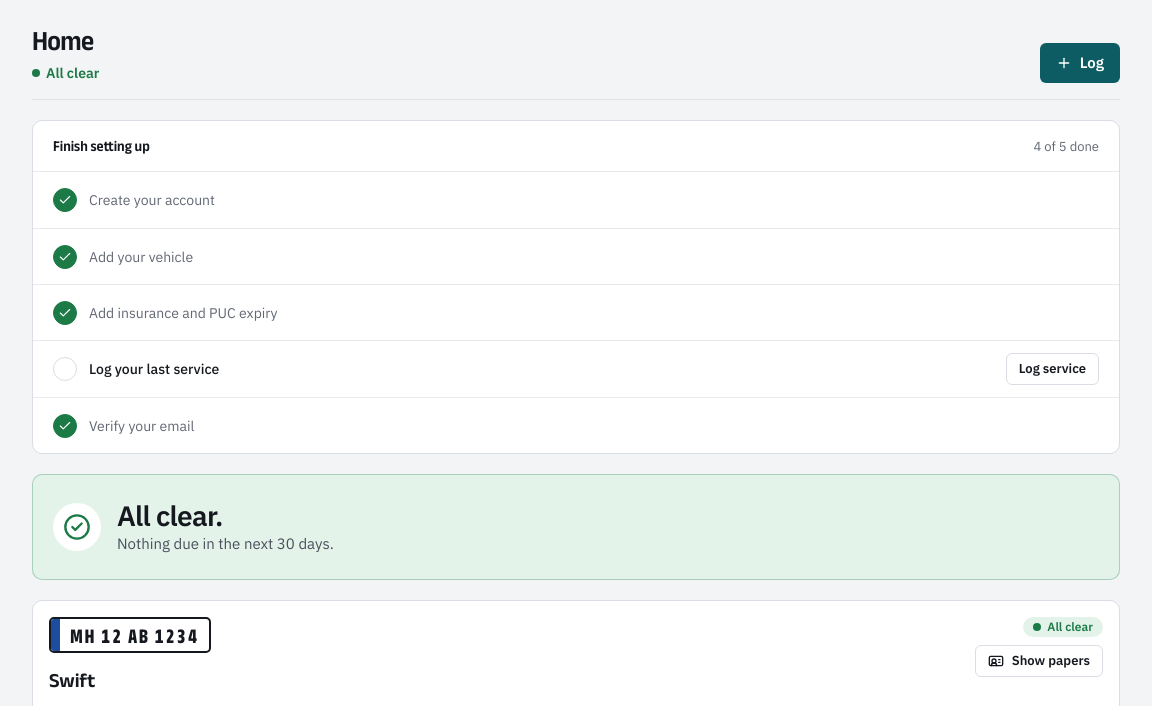
Test: DashboardPage logging › logs from one "Log" menu of five writes
The image size is (1152, 706).
Click the button with test id "home-log-button".
click(1080, 63)  # box [1040,43,1120,83]
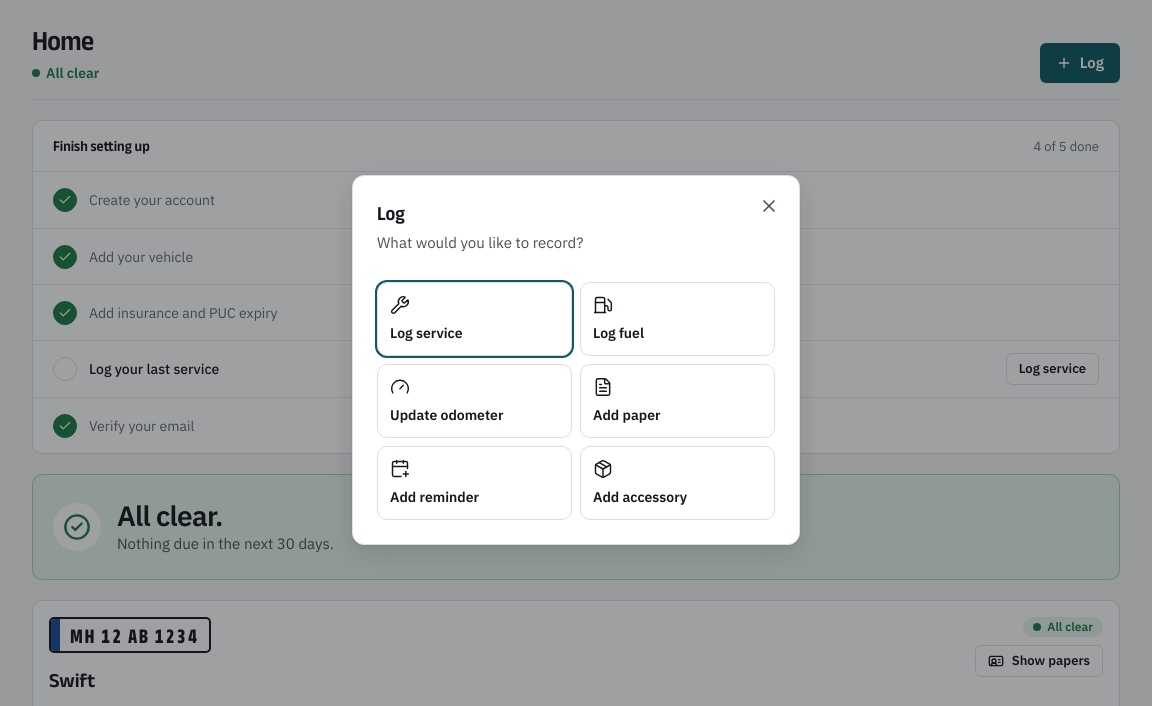
// One vehicle it could be, so the service form opens straight away.
Click the button "Log service".
click(474, 319)  # box [377,282,572,356]
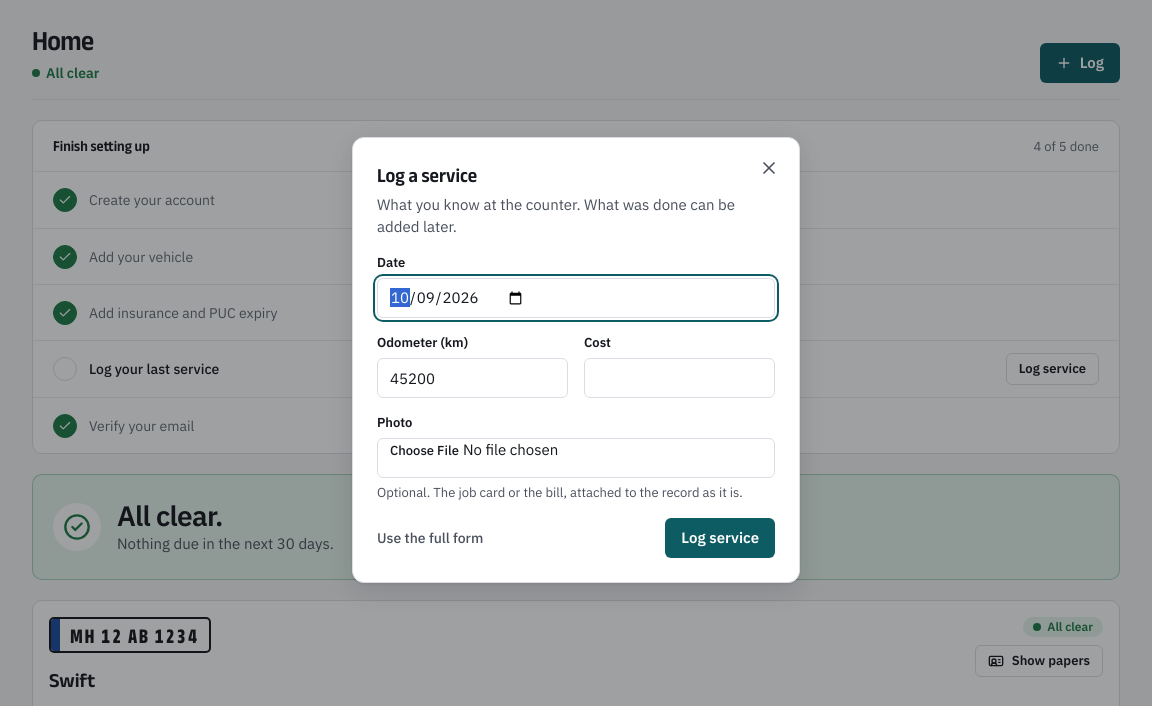
Expected: the dialog "Log a service" is shown, [352,137,800,583]
